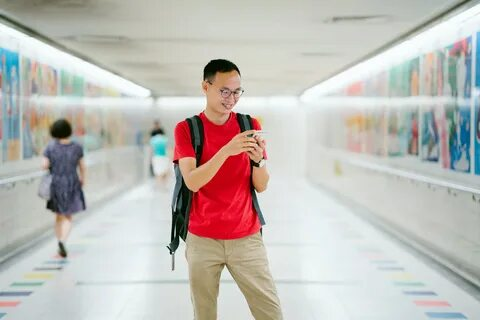awake: (164, 58, 285, 320)
